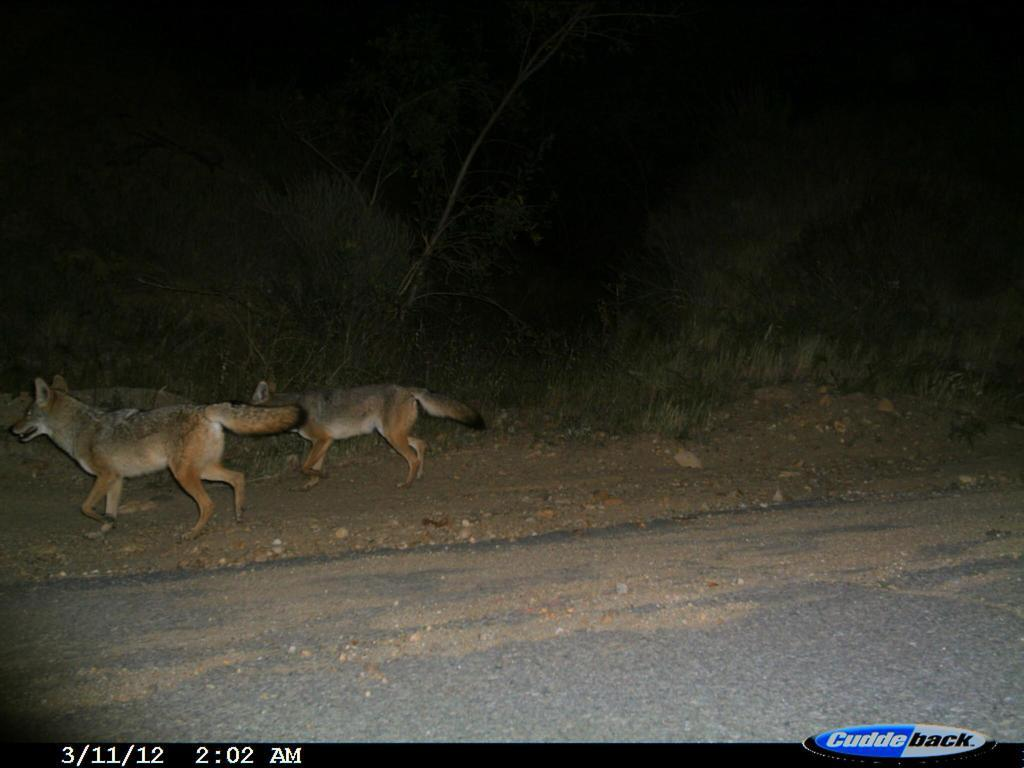coyote: (20, 374, 303, 533), (246, 367, 491, 501)
